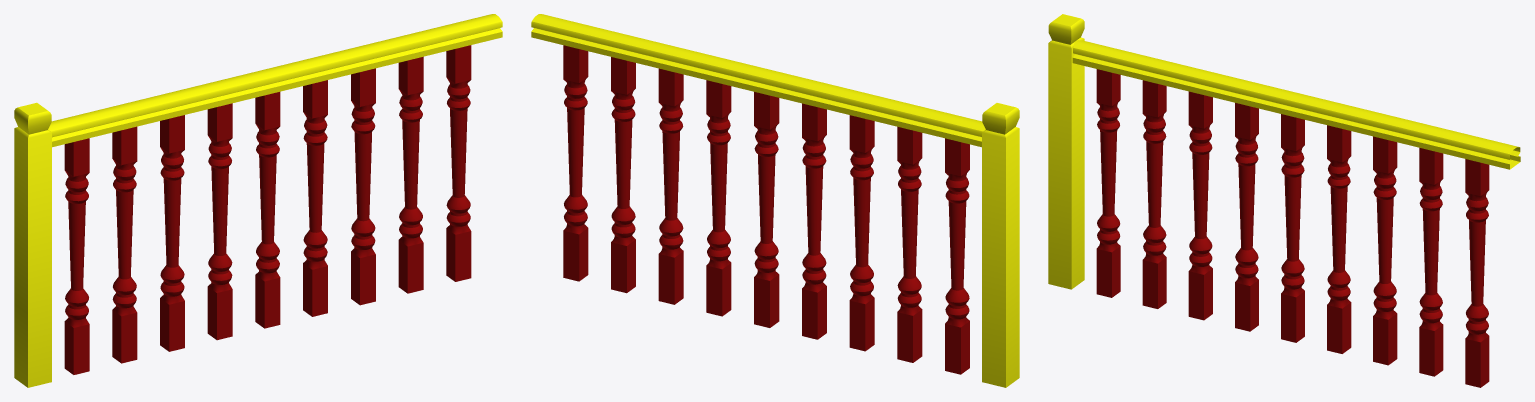
The model's file is Rambarde.FBX.
3 views of the same model, side by side, from view 1: azimuth 30°, elevation 25°; view 2: azimuth 150°, elevation 25°; view 3: azimuth 330°, elevation 25° (orthographic). The views are drawn at different scales.
Parts seen in each view (by area): view 1: Box023; view 2: Box023; view 3: Box023.
Boxes of the visible parts, bbox=[...] form: Box023: bbox=[14, 14, 502, 387]; Box023: bbox=[531, 14, 1019, 387]; Box023: bbox=[1048, 14, 1520, 387].
Bounding box in the file's own units: 200 × 109 × 10.
